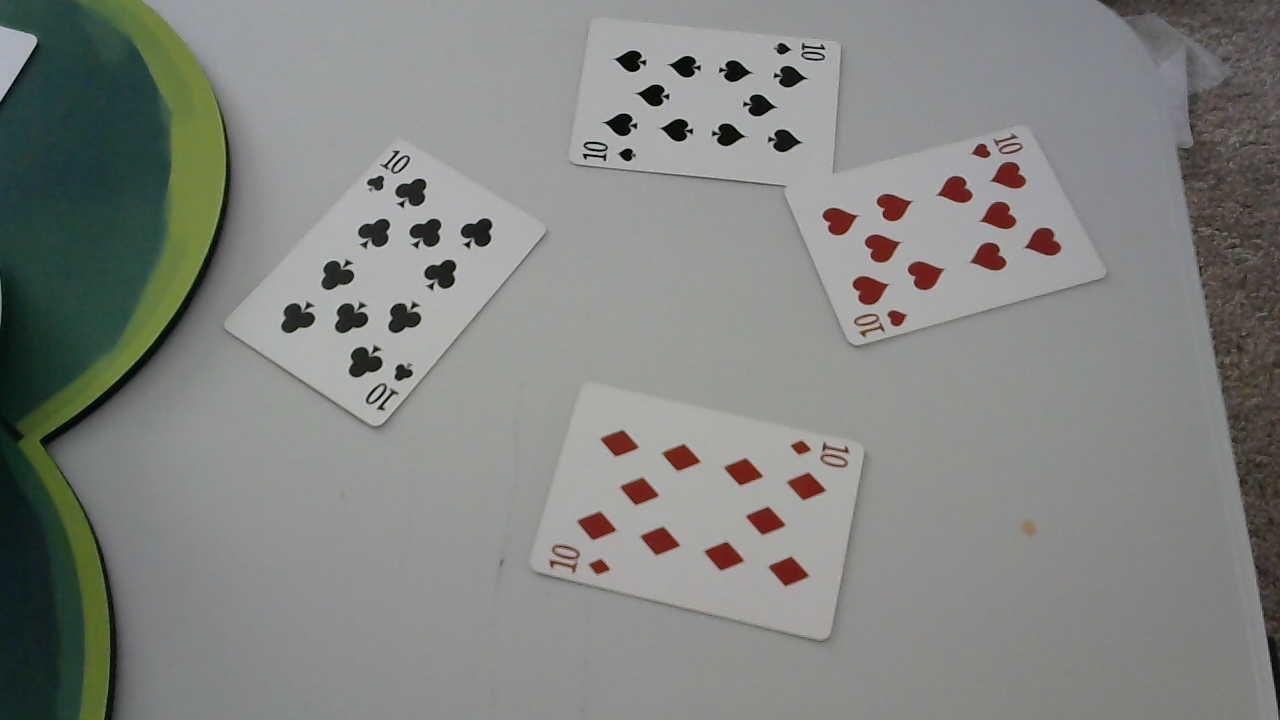10C: (366, 361, 418, 413), (364, 147, 414, 197)
10D: (544, 539, 612, 580), (789, 433, 851, 471)
10H: (851, 307, 910, 341), (968, 127, 1023, 161)
10S: (576, 139, 640, 166), (773, 39, 830, 64)
